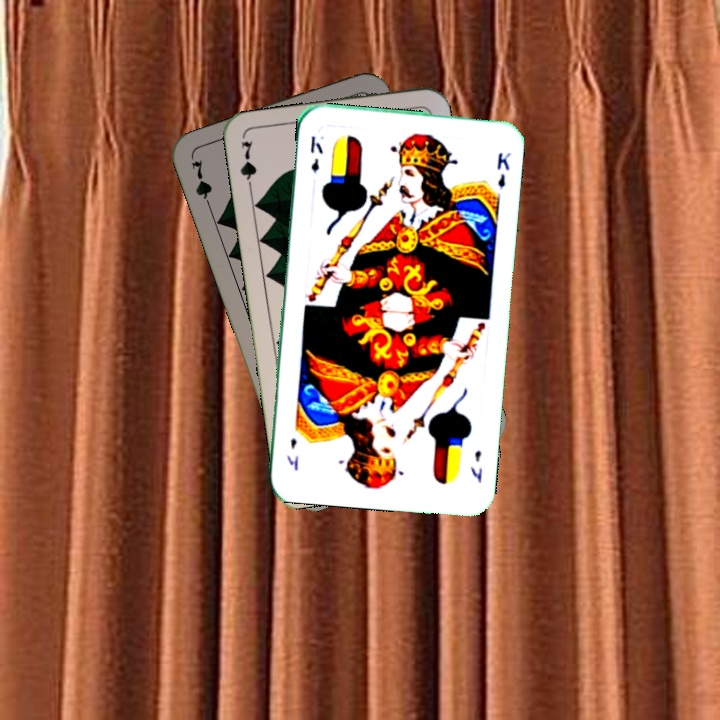EK: (306, 132, 326, 176), (466, 446, 485, 486)
G7: (187, 155, 215, 214), (236, 137, 260, 196)
